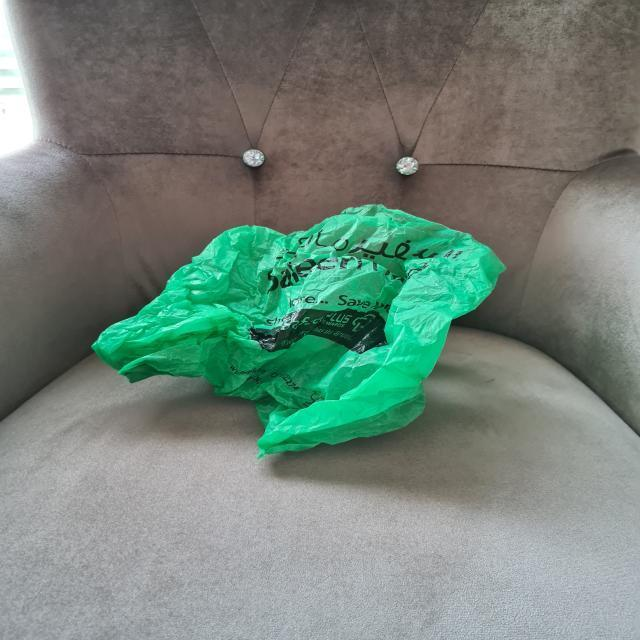Plastic_Bag: (88, 202, 512, 457)
